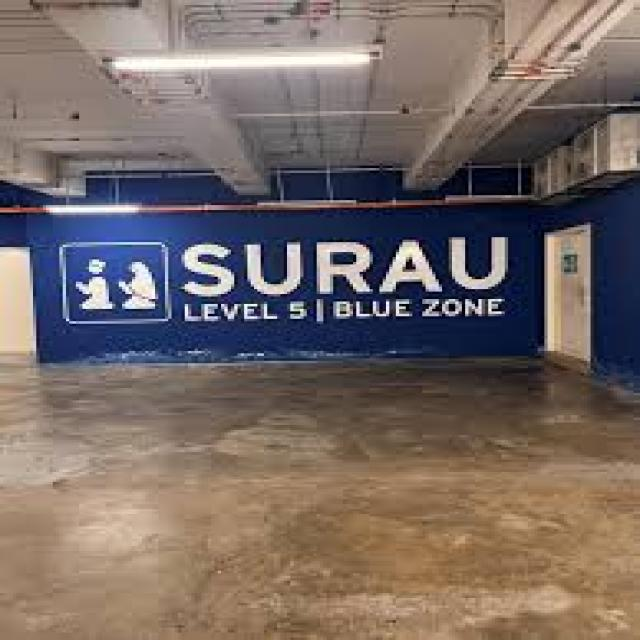surau_icon: (64, 251, 170, 322)
